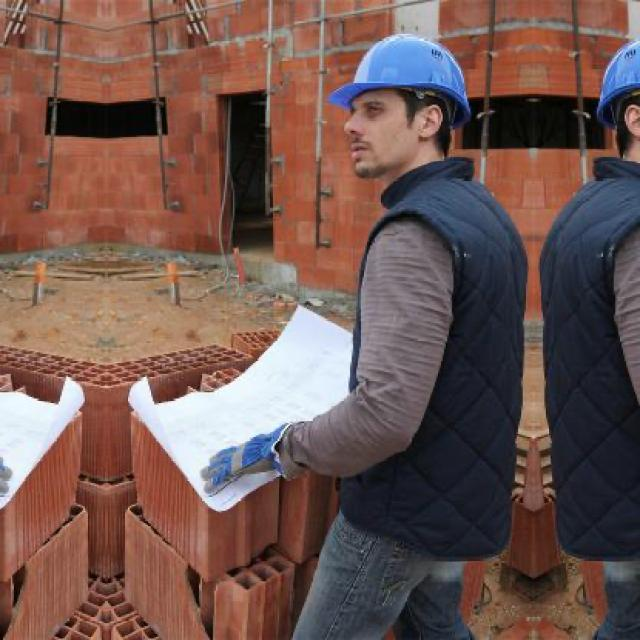safetyhelmet: (335, 34, 463, 174)
